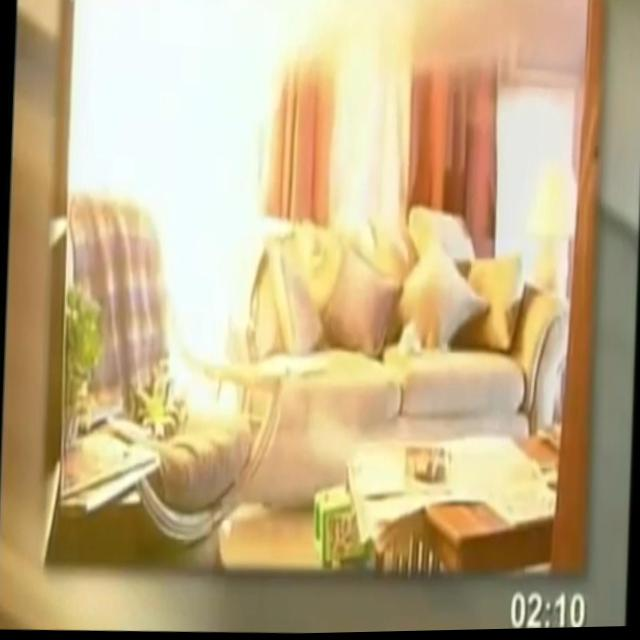fire: (109, 0, 286, 417)
